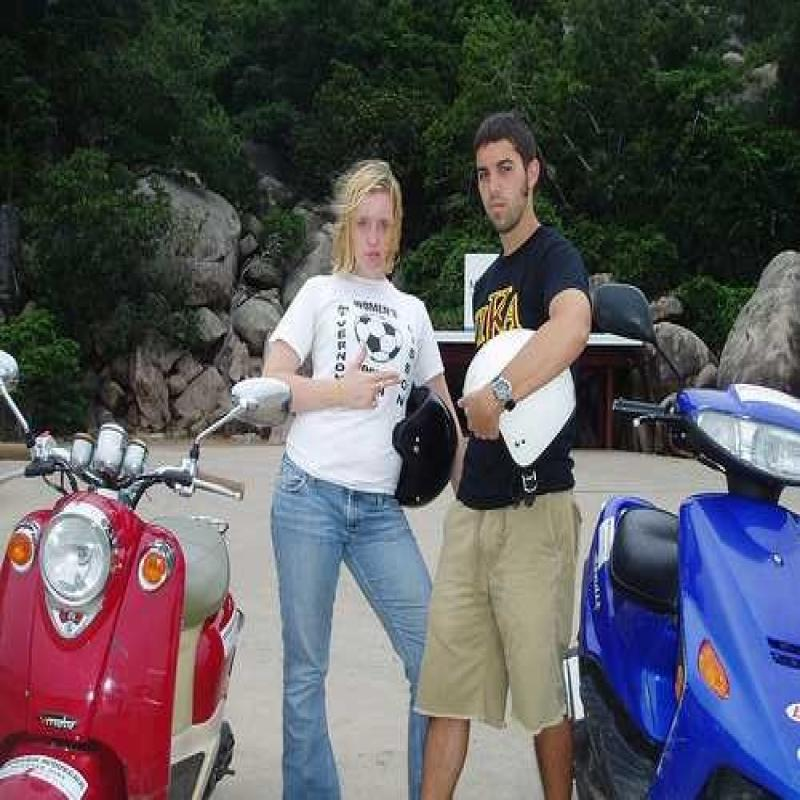bike: (0, 320, 258, 800), (582, 286, 800, 800)
